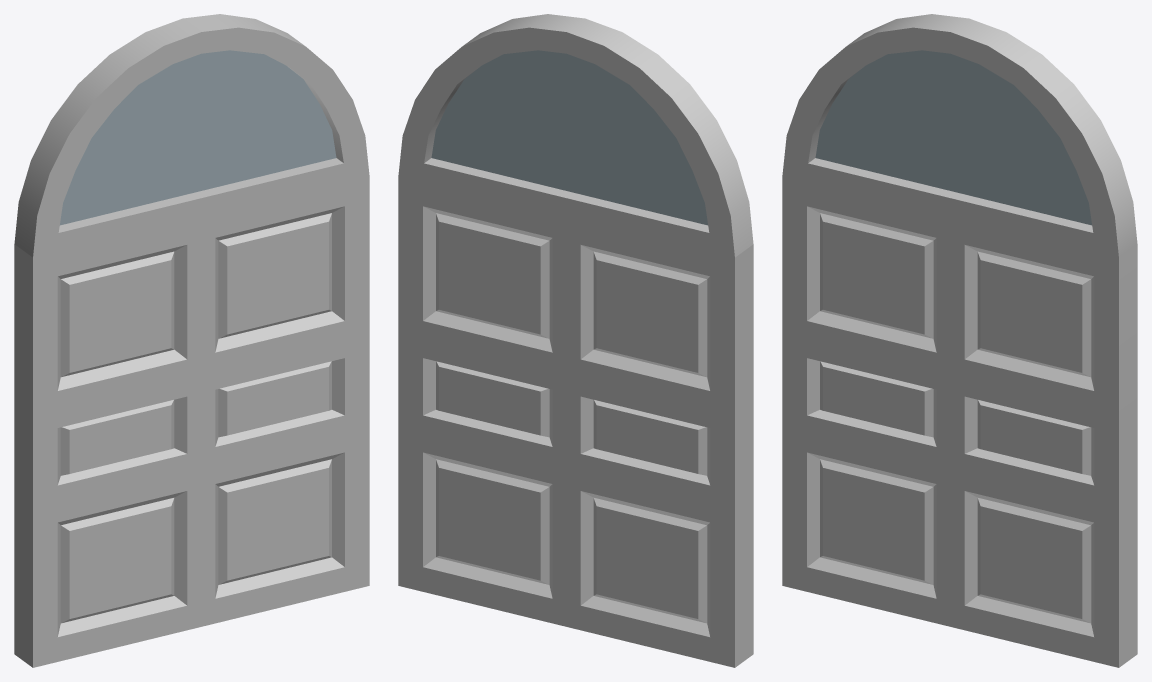
File: Door_Small.fbx
3 renders of one model, left to right at view 1: azimuth 30°, elevation 25°; view 2: azimuth 150°, elevation 25°; view 3: azimuth 330°, elevation 25°, orthographic.
Parts seen in each view (by area): view 1: Door_Small; view 2: Door_Small; view 3: Door_Small.
Part boxes in pixels (x1,y1,x2,y2): Door_Small: (14, 14, 369, 667); Door_Small: (398, 14, 753, 667); Door_Small: (782, 14, 1137, 667).
Size of the model in its own units: 157 by 265 by 15.
